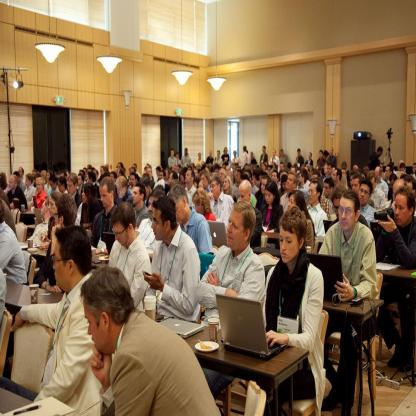board: (206, 285, 285, 375), (306, 252, 344, 300), (159, 316, 205, 340), (206, 219, 228, 248), (208, 317, 220, 343), (103, 233, 116, 256), (145, 296, 155, 320), (29, 284, 39, 304), (33, 209, 43, 224), (323, 221, 333, 236), (28, 239, 34, 248)
